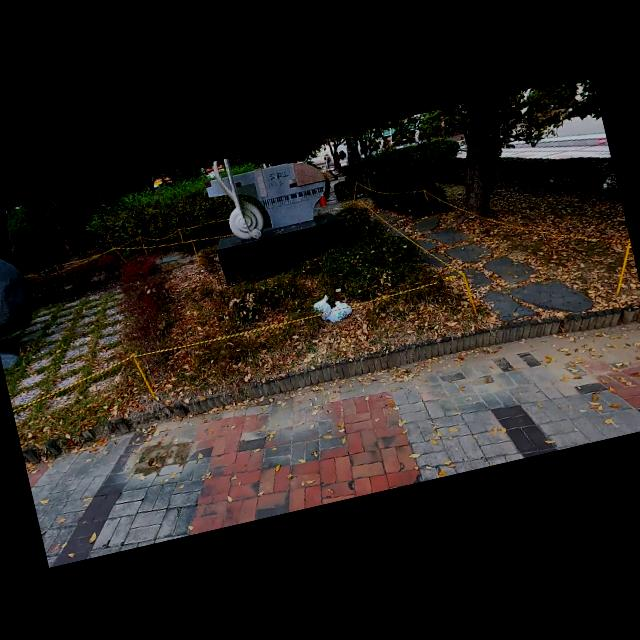trash: (324, 297, 354, 324), (310, 291, 334, 321)
